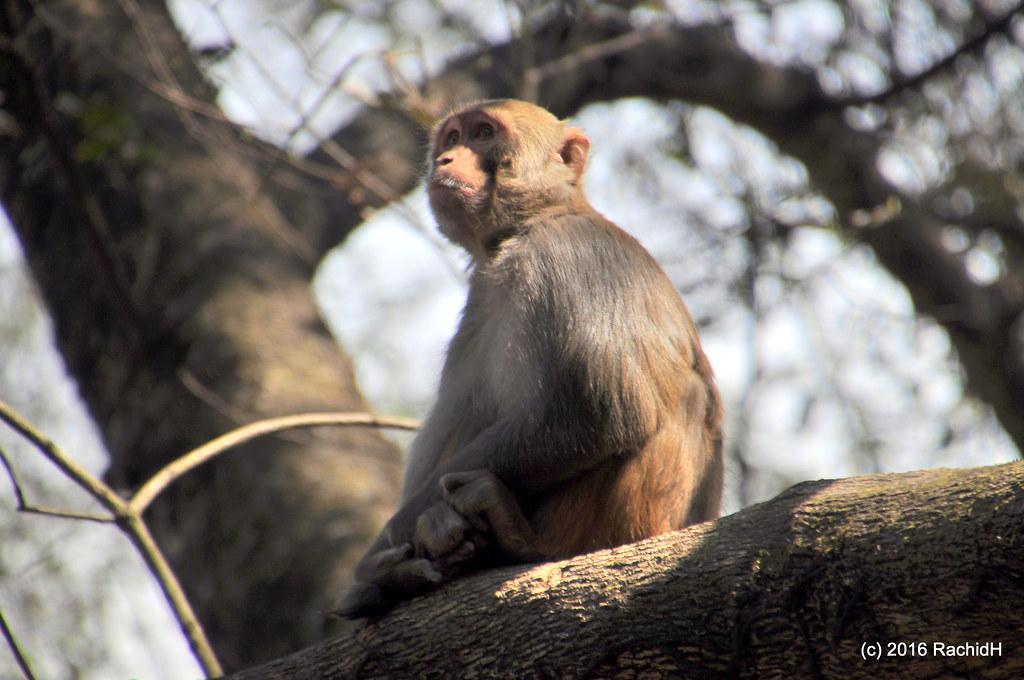monkey: (314, 101, 725, 637)
